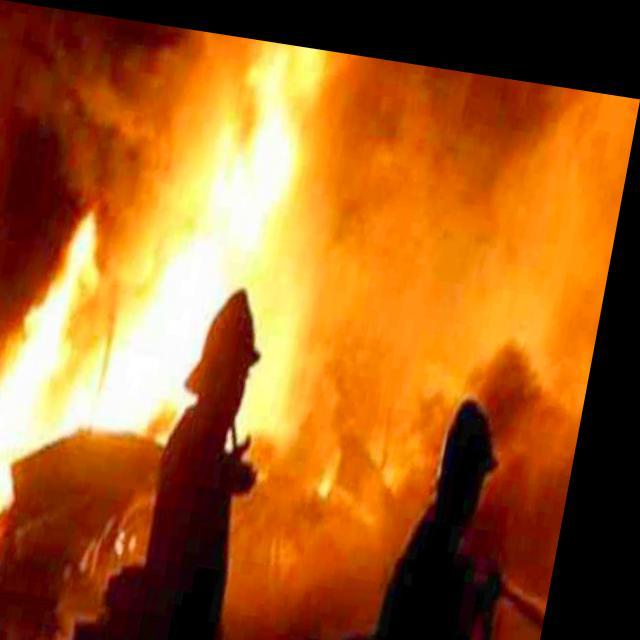Fire: (62, 20, 326, 468), (0, 175, 122, 520)
